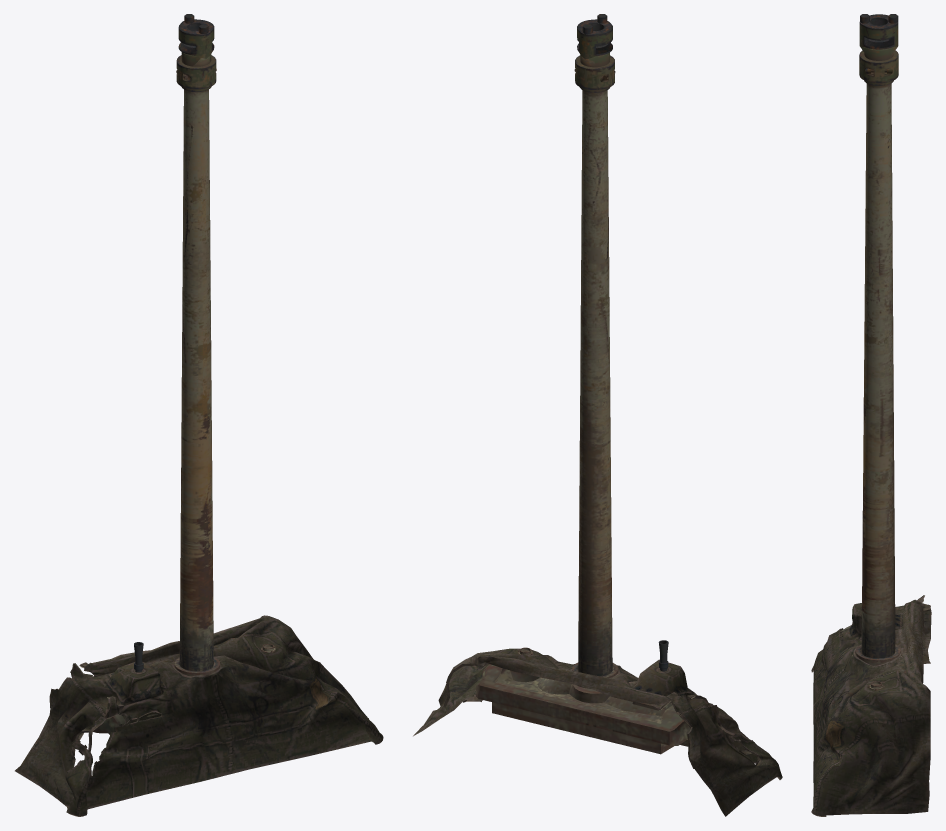
The model's file is Gun_05.glb.
3 views of the same model, side by side, from view 1: azimuth 30°, elevation 25°; view 2: azimuth 150°, elevation 25°; view 3: azimuth 270°, elevation 25° (orthographic). The views are drawn at different scales.
Visible parts, largest first — view 1: set_0_group_0; view 2: set_0_group_0; view 3: set_0_group_0.
Boxes of the visible parts, x1=… form: set_0_group_0: x1=15, y1=14, x2=383, y2=816; set_0_group_0: x1=413, y1=14, x2=782, y2=816; set_0_group_0: x1=811, y1=14, x2=931, y2=816.
Size of the model in its own units: 2.11 by 4.7 by 0.7049.
1 material, 1 textured.
